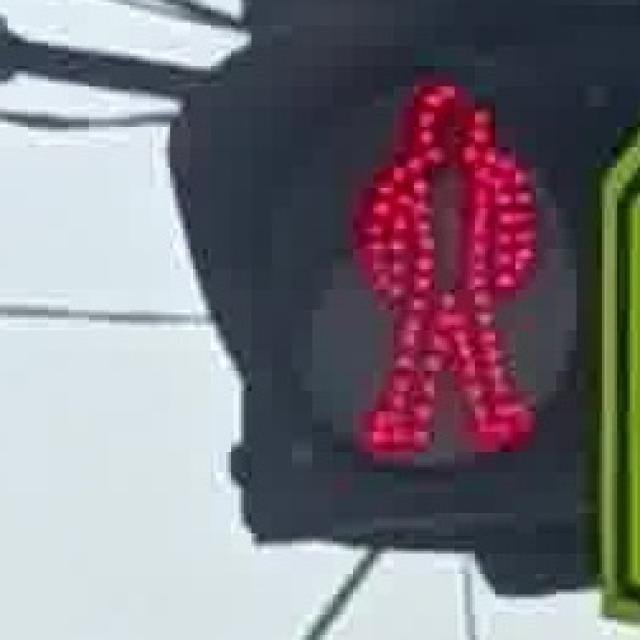red-crossing: (340, 51, 546, 480)
